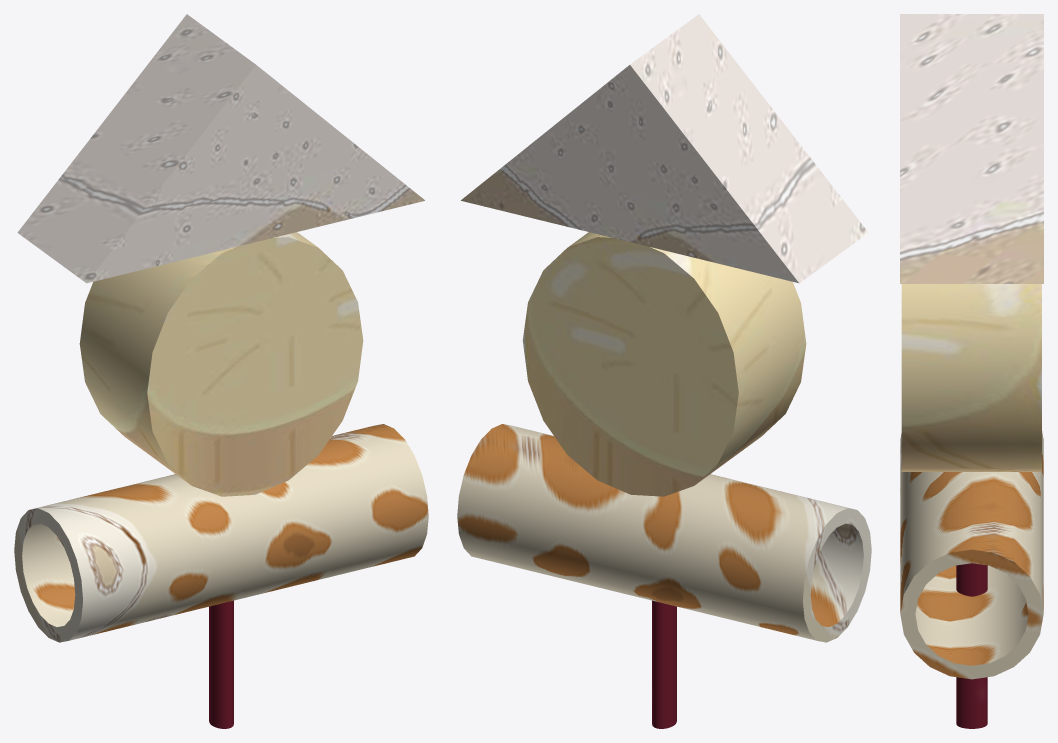
The model's file is oden.fbx.
3 views of the same model, side by side, from view 1: azimuth 30°, elevation 25°; view 2: azimuth 150°, elevation 25°; view 3: azimuth 270°, elevation 25° (orthographic). The views are drawn at different scales.
Visible parts, largest first — view 1: pCylinder4; view 2: pCylinder4; view 3: pCylinder4.
Boxes of the visible parts, x1,y1,x2,y2 form: pCylinder4: (14, 14, 428, 728); pCylinder4: (457, 14, 871, 728); pCylinder4: (900, 14, 1043, 728).
Size of the model in its own units: 0.7208 by 1.36 by 0.25.
Materials: 1 (1 with a texture image).
